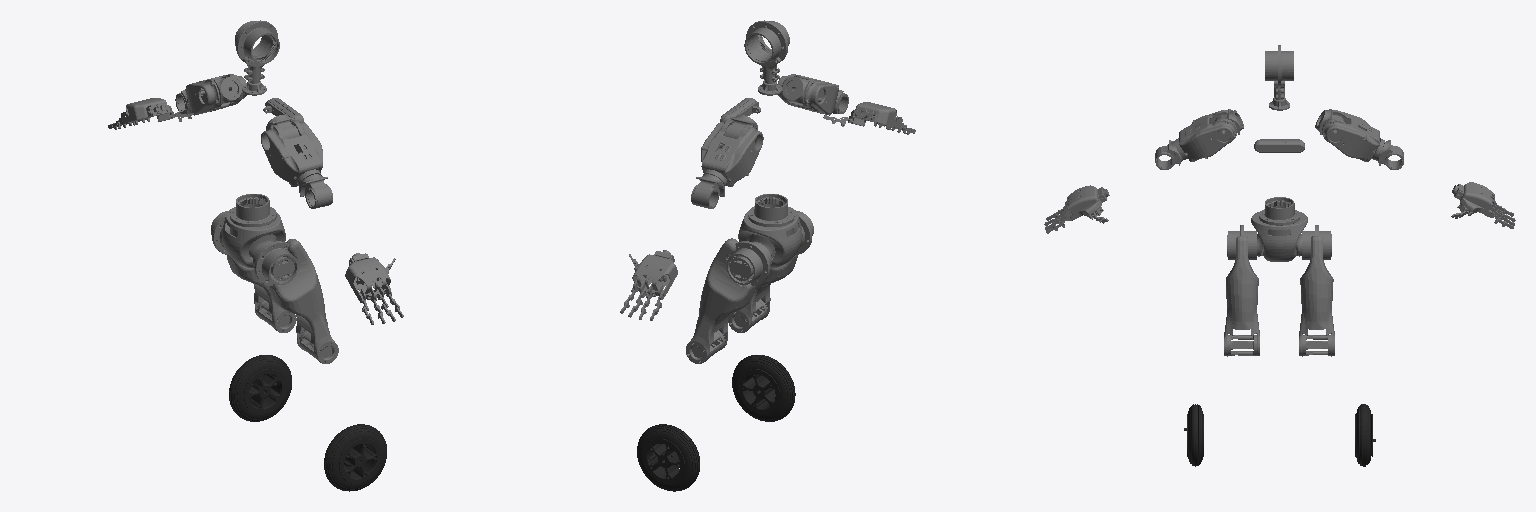
--- Facts derived from the render (not from the file) ---
3 views of the same robot in one strip: view 1: azimuth 30°, elevation 25°; view 2: azimuth 150°, elevation 25°; view 3: azimuth 270°, elevation 25° (orthographic).
Model mindbot with 53 links and 52 joints (46 revolute, 2 continuous, 4 fixed), rooted at base, posed every joint at zero.
Links seen in each view (by area): view 1: upper_legs, pelvis, right_wheel, left_wheel, right_upper_arm, neck, right_palm, left_upper_arm, left_palm, right_elbow, left_shoulder; view 2: upper_legs, pelvis, right_wheel, left_wheel, left_upper_arm, neck, left_palm, right_upper_arm, right_palm, left_elbow, right_shoulder; view 3: upper_legs, pelvis, left_upper_arm, right_upper_arm, neck, left_palm, right_palm, left_wheel, right_wheel, chest_camera.
Boxes of the visible links, x1,y1,x2,y2 form: upper_legs: (211, 211, 338, 363); pelvis: (222, 194, 294, 280); right_wheel: (324, 424, 386, 491); left_wheel: (229, 355, 291, 421); right_upper_arm: (261, 120, 322, 186); neck: (235, 20, 279, 95); right_palm: (345, 253, 391, 302); left_upper_arm: (185, 74, 246, 115); left_palm: (119, 98, 175, 123); right_elbow: (299, 174, 332, 208); left_shoulder: (214, 75, 242, 103); upper_legs: (686, 211, 813, 363); pelvis: (730, 194, 802, 280); right_wheel: (732, 355, 795, 421); left_wheel: (637, 424, 699, 491); left_upper_arm: (701, 120, 763, 186); neck: (744, 20, 789, 95); left_palm: (631, 250, 677, 299); right_upper_arm: (777, 74, 838, 115); right_palm: (847, 102, 903, 128); left_elbow: (691, 174, 724, 208); right_shoulder: (781, 75, 809, 103); upper_legs: (1224, 225, 1334, 356); pelvis: (1227, 197, 1331, 261); left_upper_arm: (1322, 110, 1384, 161); right_upper_arm: (1175, 110, 1236, 161); neck: (1265, 45, 1293, 110); left_palm: (1452, 182, 1497, 217); right_palm: (1065, 185, 1109, 220); left_wheel: (1355, 404, 1375, 466); right_wheel: (1184, 404, 1203, 466); chest_camera: (1254, 139, 1304, 152).
Size in the robot's own frame: 0.275 by 1.14 by 1.05 metres.
44 mesh visuals loaded from 29 distinct referenced files (24 binary STL); not drawn: 5 (reference not matched to a file when rendering).

The robot description file, URDF, robot "mindbot":
<?xml version="1.0"?>
<robot name="mindbot">

    <!--
    The links are named exactly like the bones in Blender.
    The joints are named exactly like the joints in the animation system.
    -->

    <link name="base">
        <visual>
            <geometry>
                <mesh
                    filename="package://mindbot/robot_description/meshes/base.stl" />
            </geometry>
            <material name="gray">
                <color rgba="0.5 0.5 0.5 1.0" />
            </material>
        </visual>
    </link>

    <!-- "base_link" is apparently the hardcoded name for NAV2 -->
    <link name="base_link" />
    <joint name="_base_link" type="fixed">
        <origin xyz="0 0 0.076" rpy="0 0 0" />
        <parent link="base" />
        <child link="base_link" />
    </joint>

    <link name="left_wheel">
        <visual>
            <geometry>
                <mesh
                    filename="package://mindbot/robot_description/meshes/left_wheel.stl" />
            </geometry>
            <material name="dark_gray">
                <color rgba="0.2 0.2 0.2 1.0" />
            </material>
        </visual>
    </link>
    <joint name="left_wheel" type="continuous">
        <origin xyz="0 0.182 0" rpy="0 0 0" />
        <parent link="base_link" />
        <child link="left_wheel" />
        <axis xyz="0 1 0" />
    </joint>

    <link name="right_wheel">
        <visual>
            <geometry>
                <mesh
                    filename="package://mindbot/robot_description/meshes/right_wheel.stl" />
            </geometry>
            <material name="dark_gray">
                <color rgba="0.2 0.2 0.2 1.0" />
            </material>
        </visual>
    </link>
    <joint name="right_wheel" type="continuous">
        <origin xyz="0 -0.182 0" rpy="0 0 0" />
        <parent link="base_link" />
        <child link="right_wheel" />
        <axis xyz="0 1 0" />
    </joint>

    <link name="upper_legs">
        <visual>
            <geometry>
                <mesh
                    filename="package://mindbot/robot_description/meshes/upper_legs.stl" />
            </geometry>
            <material name="gray">
                <color rgba="0.5 0.5 0.5 1.0" />
            </material>
        </visual>
    </link>
    <joint name="knees" type="revolute">
        <origin xyz="-0.0275 0 0.302" rpy="0 0 0" />
        <parent link="base" />
        <child link="upper_legs" />
        <axis xyz="0 1 0" />
        <limit lower="-1.5708" upper="0.3665" effort="0" velocity="0" />
    </joint>

    <link name="pelvis">
        <visual>
            <geometry>
                <mesh filename="package://mindbot/robot_description/meshes/pelvis.stl" />
            </geometry>
            <material name="gray">
                <color rgba="0.5 0.5 0.5 1.0" />
            </material>
        </visual>
    </link>
    <joint name="hips" type="revolute">
        <!-- absolute: <origin xyz="-0.13314 0 0.51908" rpy="0 0 0"/>-->
        <origin xyz="-0.10564 0 0.21708" rpy="0 0 0" />
        <parent link="upper_legs" />
        <child link="pelvis" />
        <axis xyz="0 1 0" />
        <limit lower="0.3665" upper="-1.5708" effort="0" velocity="0" />
    </joint>

    <link name="torso">
        <visual>
            <geometry>
                <mesh filename="package://mindbot/robot_description/meshes/torso.stl" />
            </geometry>
            <material name="gray">
                <color rgba="0.5 0.5 0.5 1.0" />
            </material>
        </visual>
    </link>
    <joint name="torso_rotate" type="revolute">
        <!-- absolute: <origin xyz="-0.13314 0 0.51908" rpy="0 0 0"/>-->
        <origin xyz="0 0 0" rpy="0 0 0" />
        <parent link="pelvis" />
        <child link="torso" />
        <axis xyz="0 0 1" />
        <limit lower="1.3963" upper="-1.3963" effort="0" velocity="0" />
    </joint>

    <link name="neck">
        <visual>
            <geometry>
                <mesh filename="package://mindbot/robot_description/meshes/neck.stl" />
            </geometry>
            <material name="gray">
                <color rgba="0.5 0.5 0.5 1.0" />
            </material>
        </visual>
    </link>
    <joint name="neck_turn" type="revolute">
        <!-- absolute: <origin xyz="-0.13218 0 0.9" rpy="0 0 0"/>-->
        <origin xyz="0.00096 0 0.38092" rpy="0 0 0" />
        <parent link="torso" />
        <child link="neck" />
        <axis xyz="0 0 1" />
        <limit lower="1.3963" upper="-1.3963" effort="0" velocity="0" />
    </joint>

    <link name="head">
        <visual>
            <geometry>
                <mesh filename="package://mindbot/robot_description/meshes/head.stl" />
            </geometry>
            <material name="light-gray">
                <color rgba="0.8 0.8 0.8 1.0" />
            </material>
        </visual>
    </link>
    <joint name="head_nod" type="revolute">
        <!-- absolute: <origin xyz="-0.1252 0 1" rpy="0 0 0"/>-->
        <origin xyz="0.00698 0 0.1" rpy="0 0 0" />
        <parent link="neck" />
        <child link="head" />
        <axis xyz="0 1 0" />
        <limit lower="0.4363" upper="-0.6982" effort="0" velocity="0" />
    </joint>

    <link name="_left_shoulder_mount" />
    <joint name="_left_shoulder_mount" type="fixed">
        <!-- absolute: <origin xyz="-0.1323 0.09165 0.8581" rpy="0 0 0"/>-->
        <origin xyz="0.00084 0.09165 0.33902" rpy="-0.5236 0 0" />
        <parent link="torso" />
        <child link="_left_shoulder_mount" />
    </joint>

    <link name="left_shoulder">
        <visual>
            <geometry>
                <mesh filename="package://mindbot/robot_description/meshes/left_shoulder.stl" />
            </geometry>
            <material name="gray">
                <color rgba="0.5 0.5 0.5 1.0" />
            </material>
        </visual>
    </link>
    <joint name="left_shoulder_phi" type="revolute">
        <origin xyz="0 0 0" rpy="0 0 0" />
        <parent link="_left_shoulder_mount" />
        <child link="left_shoulder" />
        <axis xyz="0 1 0" />
        <limit lower="1.0472" upper="-3.1416" effort="0" velocity="0" />
    </joint>

    <link name="_right_shoulder_mount" />
    <joint name="_right_shoulder_mount" type="fixed">
        <!-- absolute: <origin xyz="-0.1323 -0.09165 0.8581" rpy="0 0 0"/>-->
        <origin xyz="0.00084 -0.09165 0.33902" rpy="0.5236 0 0" />
        <parent link="torso" />
        <child link="_right_shoulder_mount" />
    </joint>

    <link name="right_shoulder">
        <visual>
            <geometry>
                <mesh
                    filename="package://mindbot/robot_description/meshes/right_shoulder.stl" />
            </geometry>
            <material name="gray">
                <color rgba="0.5 0.5 0.5 1.0" />
            </material>
        </visual>
    </link>
    <joint name="right_shoulder_phi" type="revolute">
        <origin xyz="0 0 0" rpy="0 0 0" />
        <parent link="_right_shoulder_mount" />
        <child link="right_shoulder" />
        <axis xyz="0 1 0" />
        <limit lower="1.0472" upper="-3.1416" effort="0" velocity="0" />
    </joint>

    <link name="left_upper_arm">
        <visual>
            <geometry>
                <mesh
                    filename="package://mindbot/robot_description/meshes/left_upper_arm.stl" />
            </geometry>
            <material name="gray">
                <color rgba="0.5 0.5 0.5 1.0" />
            </material>
        </visual>
    </link>
    <joint name="left_shoulder_theta" type="revolute">
        <!-- absolute: <origin xyz="-0.1323 0.141 0.8581" rpy="0 0 0"/>-->
        <origin xyz="0 0.04935 0" rpy="0 0 0" />
        <parent link="left_shoulder" />
        <child link="left_upper_arm" />
        <axis xyz="1 0 0" />
        <limit lower="-0.8727" upper="0.6981" effort="0" velocity="0" />
    </joint>

    <link name="right_upper_arm">
        <visual>
            <geometry>
                <mesh
                    filename="package://mindbot/robot_description/meshes/right_upper_arm.stl" />
            </geometry>
            <material name="gray">
                <color rgba="0.5 0.5 0.5 1.0" />
            </material>
        </visual>
    </link>
    <joint name="right_shoulder_theta" type="revolute">
        <!-- absolute: <origin xyz="-0.1323 -0.141 0.8581" rpy="0 0 0"/>-->
        <origin xyz="0 -0.04935 0" rpy="0 0 0" />
        <parent link="right_shoulder" />
        <child link="right_upper_arm" />
        <axis xyz="1 0 0" />
        <limit lower="0.8727" upper="-0.6981" effort="0" velocity="0" />
    </joint>

    <link name="left_elbow">
        <visual>
            <geometry>
                <mesh
                    filename="package://mindbot/robot_description/meshes/left_elbow.stl" />
            </geometry>
            <material name="gray">
                <color rgba="0.5 0.5 0.5 1.0" />
            </material>
        </visual>
    </link>
    <joint name="left_elbow_phi" type="revolute">
        <!-- absolute: <origin xyz="-0.1323 0.2647 0.8581" rpy="0 0 0"/>-->
        <origin xyz="0 0.1237 0" rpy="0 0 0" />
        <parent link="left_upper_arm" />
        <child link="left_elbow" />
        <axis xyz="0 1 0" />
        <limit lower="0" upper="-1.0472" effort="0" velocity="0" />
    </joint>

    <link name="right_elbow">
        <visual>
            <geometry>
                <mesh
                    filename="package://mindbot/robot_description/meshes/right_elbow.stl" />
            </geometry>
            <material name="gray">
                <color rgba="0.5 0.5 0.5 1.0" />
            </material>
        </visual>
    </link>
    <joint name="right_elbow_phi" type="revolute">
        <!-- absolute: <origin xyz="-0.1323 -0.2647 0.8581" rpy="0 0 0"/>-->
        <origin xyz="0 -0.1237 0" rpy="0 0 0" />
        <parent link="right_upper_arm" />
        <child link="right_elbow" />
        <axis xyz="0 1 0" />
        <limit lower="0" upper="-1.0472" effort="0" velocity="0" />
    </joint>

    <link name="left_lower_arm">
        <visual>
            <geometry>
                <mesh
                    filename="package://mindbot/robot_description/meshes/left_lower_arm.stl" />
            </geometry>
            <material name="gray">
                <color rgba="0.5 0.5 0.5 1.0" />
            </material>
        </visual>
    </link>
    <joint name="left_elbow_theta" type="revolute">
        <!-- absolute: <origin xyz="-0.1323 0.3059 0.8581" rpy="0 0 0"/>-->
        <origin xyz="0 0.0412 0" rpy="0 0 0" />
        <parent link="left_elbow" />
        <child link="left_lower_arm" />
        <axis xyz="1 0 0" />
        <limit lower="-1.9199" upper="0" effort="0" velocity="0" />
    </joint>

    <link name="right_lower_arm">
        <visual>
            <geometry>
                <mesh
                    filename="package://mindbot/robot_description/meshes/right_lower_arm.stl" />
            </geometry>
            <material name="gray">
                <color rgba="0.5 0.5 0.5 1.0" />
            </material>
        </visual>
    </link>
    <joint name="right_elbow_theta" type="revolute">
        <!-- absolute: <origin xyz="-0.1323 -0.3059 0.8581" rpy="0 0 0"/>-->
        <origin xyz="0 -0.0412 0" rpy="0 0 0" />
        <parent link="right_elbow" />
        <child link="right_lower_arm" />
        <axis xyz="1 0 0" />
        <limit lower="1.9199" upper="0" effort="0" velocity="0" />
    </joint>

    <link name="left_palm">
        <visual>
            <geometry>
                <mesh filename="package://mindbot/robot_description/meshes/left_palm.stl" />
            </geometry>
            <material name="gray">
                <color rgba="0.5 0.5 0.5 1.0" />
            </material>
        </visual>
    </link>
    <joint name="left_wrist" type="revolute">
        <!-- absolute: <origin xyz="-0.1217 0.4671 0.8632" rpy="0 0 0"/>-->
        <origin xyz="0.0106 0.1612 0.0051" rpy="0 0 0" />
        <parent link="left_lower_arm" />
        <child link="left_palm" />
        <axis xyz="0 1 0" />
        <limit lower="-3.14" upper="3.14" effort="0" velocity="0" />
    </joint>

    <link name="right_palm">
        <visual>
            <geometry>
                <mesh filename="package://mindbot/robot_description/meshes/right_palm.stl" />
            </geometry>
            <material name="gray">
                <color rgba="0.5 0.5 0.5 1.0" />
            </material>
        </visual>
    </link>
    <joint name="right_wrist" type="revolute">
        <!-- absolute: <origin xyz="-0.1211 -0.4671 0.8531" rpy="0 0 0"/>-->
        <origin xyz="0.0112 -0.1612 -0.005" rpy="0 0 0" />
        <parent link="right_lower_arm" />
        <child link="right_palm" />
        <axis xyz="0 1 0" />
        <limit lower="-3.14" upper="3.14" effort="0" velocity="0" />
    </joint>

    <link name="left_thumb_base">
        <visual>
            <geometry>
                <mesh filename="package://mindbot/robot_description/meshes/left_thumb_base.stl" />
            </geometry>
            <material name="gray">
                <color rgba="0.5 0.5 0.5 1.0" />
            </material>
        </visual>
    </link>
    <joint name="left_thumb" type="revolute">
        <!-- absolute: <origin xyz="-0.0771 0.5155 0.8442" rpy="0 0 0"/>-->
        <origin xyz="0.0446 0.0484 -0.019" rpy="0 0 -2.268928" /> <!-- thumb angle -->
        <parent link="left_palm" />
        <child link="left_thumb_base" />
        <axis xyz="1 0 0" />
        <limit lower="0" upper="-1.1" effort="0" velocity="0" />
    </joint>

    <link name="right_thumb_base">
        <visual>
            <geometry>
                <mesh filename="package://mindbot/robot_description/meshes/right_thumb_base.stl" />
            </geometry>
            <material name="gray">
                <color rgba="0.5 0.5 0.5 1.0" />
            </material>
        </visual>
    </link>
    <joint name="right_thumb" type="revolute">
        <!-- absolute: <origin xyz="-0.0765 -0.5196 0.8341" rpy="0 0 0"/>-->
        <origin xyz="0.0446 -0.0525 -0.019" rpy="0 0 2.268928" /> <!-- thumb angle -->
        <parent link="right_palm" />
        <child link="right_thumb_base" />
        <axis xyz="1 0 0" />
        <limit lower="0" upper="1.1" effort="0" velocity="0" />
    </joint>

    <link name="left_thumb_mid">
        <visual>
            <geometry>
                <mesh filename="package://mindbot/robot_description/meshes/left_finger_mid.stl" />
            </geometry>
            <material name="gray">
                <color rgba="0.5 0.5 0.5 1.0" />
            </material>
        </visual>
    </link>
    <joint name="_left_thumb_mid" type="revolute">
        <origin xyz="0 0.0185 -0.007" rpy="0 0 0" />
        <parent link="left_thumb_base" />
        <child link="left_thumb_mid" />
        <axis xyz="1 0 0" />
        <limit lower="0" upper="0" effort="0" velocity="0" />
        <mimic joint="left_thumb" multiplier="1" offset="0" />
    </joint>

    <link name="right_thumb_mid">
        <visual>
            <geometry>
                <mesh filename="package://mindbot/robot_description/meshes/right_finger_mid.stl" />
            </geometry>
            <material name="gray">
                <color rgba="0.5 0.5 0.5 1.0" />
            </material>
        </visual>
    </link>
    <joint name="_right_thumb_mid" type="revolute">
        <origin xyz="0 -0.0185 -0.0075" rpy="0 0 0" />
        <parent link="right_thumb_base" />
        <child link="right_thumb_mid" />
        <axis xyz="1 0 0" />
        <limit lower="0" upper="0" effort="0" velocity="0" />
        <mimic joint="right_thumb" multiplier="1" offset="0" />
    </joint>

    <link name="left_thumb_tip">
        <visual>
            <geometry>
                <mesh filename="package://mindbot/robot_description/meshes/left_finger_tip.stl" />
            </geometry>
            <material name="gray">
                <color rgba="0.5 0.5 0.5 1.0" />
            </material>
        </visual>
    </link>
    <joint name="_left_thumb_tip" type="revolute">
        <origin xyz="-0.004 0.0201 0" rpy="0 0 0" />
        <parent link="left_thumb_mid" />
        <child link="left_thumb_tip" />
        <axis xyz="1 0 0" />
        <limit lower="0" upper="0" effort="0" velocity="0" />
        <mimic joint="left_thumb" multiplier="1" offset="0" />
    </joint>

    <link name="right_thumb_tip">
        <visual>
            <geometry>
                <mesh filename="package://mindbot/robot_description/meshes/right_finger_tip.stl" />
            </geometry>
            <material name="gray">
                <color rgba="0.5 0.5 0.5 1.0" />
            </material>
        </visual>
    </link>
    <joint name="_right_thumb_tip" type="revolute">
        <origin xyz="-0.004 -0.02 0.0" rpy="0 0 0" />
        <parent link="right_thumb_mid" />
        <child link="right_thumb_tip" />
        <axis xyz="1 0 0" />
        <limit lower="0" upper="0" effort="0" velocity="0" />
        <mimic joint="right_thumb" multiplier="1" offset="0" />
    </joint>

    <link name="left_index_base">
        <visual>
            <geometry>
                <mesh filename="package://mindbot/robot_description/meshes/left_finger_base_neg.stl" />
            </geometry>
            <material name="gray">
                <color rgba="0.5 0.5 0.5 1.0" />
            </material>
        </visual>
    </link>
    <joint name="left_index" type="revolute">
        <!-- absolute: <origin xyz="-0.0940 0.5732 0.8592" rpy="0 0 0"/>-->
        <origin xyz="0.0277 0.1061 -0.004" rpy="0 0 -0.1047198" />
        <parent link="left_palm" />
        <child link="left_index_base" />
        <axis xyz="1 0 0" />
        <limit lower="0" upper="-1.1" effort="0" velocity="0" />
    </joint>

    <link name="right_index_base">
        <visual>
            <geometry>
                <mesh filename="package://mindbot/robot_description/meshes/right_finger_base_neg.stl" />
            </geometry>
            <material name="gray">
                <color rgba="0.5 0.5 0.5 1.0" />
            </material>
        </visual>
    </link>
    <joint name="right_index" type="revolute">
        <!-- absolute: <origin xyz="-0.0934 -0.5772 0.8491" rpy="0 0 0"/>-->
        <origin xyz="0.0277 -0.1101 -0.004" rpy="0 0 0.1047198" />
        <parent link="right_palm" />
        <child link="right_index_base" />
        <axis xyz="1 0 0" />
        <limit lower="0" upper="1.1" effort="0" velocity="0" />
    </joint>

    <link name="left_index_mid">
        <visual>
            <geometry>
                <mesh filename="package://mindbot/robot_description/meshes/left_finger_mid.stl" />
            </geometry>
            <material name="gray">
                <color rgba="0.5 0.5 0.5 1.0" />
            </material>
        </visual>
    </link>
    <joint name="_left_index_mid" type="revolute">
        <origin xyz="0 0.0198 -0.0028" rpy="0 0 0" />
        <parent link="left_index_base" />
        <child link="left_index_mid" />
        <axis xyz="1 0 0" />
        <limit lower="0" upper="0" effort="0" velocity="0" />
        <mimic joint="left_index" multiplier="1" offset="0" />
    </joint>

    <link name="right_index_mid">
        <visual>
            <geometry>
                <mesh filename="package://mindbot/robot_description/meshes/right_finger_mid.stl" />
            </geometry>
            <material name="gray">
                <color rgba="0.5 0.5 0.5 1.0" />
            </material>
        </visual>
    </link>
    <joint name="_right_index_mid" type="revolute">
        <origin xyz="0 -0.0198 -0.0028" rpy="0 0 0" />
        <parent link="right_index_base" />
        <child link="right_index_mid" />
        <axis xyz="1 0 0" />
        <limit lower="0" upper="0" effort="0" velocity="0" />
        <mimic joint="right_index" multiplier="1" offset="0" />
    </joint>

    <link name="left_index_tip">
        <visual>
            <geometry>
                <mesh filename="package://mindbot/robot_description/meshes/left_finger_tip.stl" />
            </geometry>
            <material name="gray">
                <color rgba="0.5 0.5 0.5 1.0" />
            </material>
        </visual>
    </link>
    <joint name="_left_index_tip" type="revolute">
        <origin xyz="-0.004 0.02 0" rpy="0 0 0" />
        <parent link="left_index_mid" />
        <child link="left_index_tip" />
        <axis xyz="1 0 0" />
        <limit lower="0" upper="0" effort="0" velocity="0" />
        <mimic joint="left_index" multiplier="1" offset="0" />
    </joint>

    <link name="right_index_tip">
        <visual>
            <geometry>
                <mesh filename="package://mindbot/robot_description/meshes/right_finger_tip.stl" />
            </geometry>
            <material name="gray">
                <color rgba="0.5 0.5 0.5 1.0" />
            </material>
        </visual>
    </link>
    <joint name="_right_index_tip" type="revolute">
        <origin xyz="-0.004 -0.02 0" rpy="0 0 0" />
        <parent link="right_index_mid" />
        <child link="right_index_tip" />
        <axis xyz="1 0 0" />
        <limit lower="0" upper="0" effort="0" velocity="0" />
        <mimic joint="right_index" multiplier="1" offset="0" />
    </joint>

    <link name="left_middle_base">
        <visual>
            <geometry>
                <mesh filename="package://mindbot/robot_description/meshes/left_finger_base_pos.stl" />
            </geometry>
            <material name="gray">
                <color rgba="0.5 0.5 0.5 1.0" />
            </material>
        </visual>
    </link>
    <joint name="left_middle" type="revolute">
        <!-- absolute: <origin xyz="-0.1197 0.5781 0.8592" rpy="0 0 0"/>-->
        <origin xyz="0.002 0.111 -0.004" rpy="0 0 -0.0349066" />
        <parent link="left_palm" />
        <child link="left_middle_base" />
        <axis xyz="1 0 0" />
        <limit lower="0" upper="-1.1" effort="0" velocity="0" />
    </joint>

    <link name="right_middle_base">
        <visual>
            <geometry>
                <mesh filename="package://mindbot/robot_description/meshes/right_finger_base_pos.stl" />
            </geometry>
            <material name="gray">
                <color rgba="0.5 0.5 0.5 1.0" />
            </material>
        </visual>
    </link>
    <joint name="right_middle" type="revolute">
        <!-- absolute: <origin xyz="-0.1191 -0.5821 0.8491" rpy="0 0 0"/>-->
        <origin xyz="0.002 -0.115 -0.004" rpy="0 0 0.0349066" />
        <parent link="right_palm" />
        <child link="right_middle_base" />
        <axis xyz="1 0 0" />
        <limit lower="0" upper="1.1" effort="0" velocity="0" />
    </joint>

    <link name="left_middle_mid">
        <visual>
            <geometry>
                <mesh filename="package://mindbot/robot_description/meshes/left_finger_mid.stl" />
            </geometry>
            <material name="gray">
                <color rgba="0.5 0.5 0.5 1.0" />
            </material>
        </visual>
    </link>
    <joint name="_left_middle_mid" type="revolute">
        <origin xyz="0 0.0198 -0.0028" rpy="0 0 0" />
        <parent link="left_middle_base" />
        <child link="left_middle_mid" />
        <axis xyz="1 0 0" />
        <limit lower="0" upper="0" effort="0" velocity="0" />
        <mimic joint="left_middle" multiplier="1" offset="0" />
    </joint>

    <link name="right_middle_mid">
        <visual>
            <geometry>
                <mesh filename="package://mindbot/robot_description/meshes/right_finger_mid.stl" />
            </geometry>
            <material name="gray">
                <color rgba="0.5 0.5 0.5 1.0" />
            </material>
        </visual>
    </link>
    <joint name="_right_middle_mid" type="revolute">
        <origin xyz="0 -0.0198 -0.0028" rpy="0 0 0" />
        <parent link="right_middle_base" />
        <child link="right_middle_mid" />
        <axis xyz="1 0 0" />
        <limit lower="0" upper="0" effort="0" velocity="0" />
        <mimic joint="right_middle" multiplier="1" offset="0" />
    </joint>

    <link name="left_middle_tip">
        <visual>
            <geometry>
                <mesh filename="package://mindbot/robot_description/meshes/left_finger_tip.stl" />
            </geometry>
            <material name="gray">
                <color rgba="0.5 0.5 0.5 1.0" />
            </material>
        </visual>
    </link>
    <joint name="_left_middle_tip" type="revolute">
        <origin xyz="0.004 0.02 0" rpy="0 0 0" />
        <parent link="left_middle_mid" />
        <child link="left_middle_tip" />
        <axis xyz="1 0 0" />
        <limit lower="0" upper="0" effort="0" velocity="0" />
        <mimic joint="left_middle" multiplier="1" offset="0" />
    </joint>

    <link name="right_middle_tip">
        <visual>
            <geometry>
                <mesh filename="package://mindbot/robot_description/meshes/right_finger_tip.stl" />
            </geometry>
            <material name="gray">
                <color rgba="0.5 0.5 0.5 1.0" />
            </material>
        </visual>
    </link>
    <joint name="_right_middle_tip" type="revolute">
        <origin xyz="0.004 -0.02 0" rpy="0 0 0" />
        <parent link="right_middle_mid" />
        <child link="right_middle_tip" />
        <axis xyz="1 0 0" />
        <limit lower="0" upper="0" effort="0" velocity="0" />
        <mimic joint="right_middle" multiplier="1" offset="0" />
    </joint>

    <link name="left_ring_base">
        <visual>
            <geometry>
                <mesh filename="package://mindbot/robot_description/meshes/left_finger_base_neg.stl" />
            </geometry>
            <material name="gray">
                <color rgba="0.5 0.5 0.5 1.0" />
            </material>
        </visual>
    </link>
    <joint name="left_ring" type="revolute">
        <!-- absolute: <origin xyz="-0.1326 0.5781 0.8592" rpy="0 0 0"/>-->
        <origin xyz="-0.0109 0.111 -0.004" rpy="0 0 0.0349066" />
        <parent link="left_palm" />
        <child link="left_ring_base" />
        <axis xyz="1 0 0" />
        <limit lower="0" upper="-1.1" effort="0" velocity="0" />
    </joint>

    <link name="right_ring_base">
        <visual>
            <geometry>
                <mesh filename="package://mindbot/robot_description/meshes/right_finger_base_neg.stl" />
            </geometry>
            <material name="gray">
                <color rgba="0.5 0.5 0.5 1.0" />
            </material>
        </visual>
    </link>
    <joint name="right_ring" type="revolute">
        <!-- absolute: <origin xyz="-0.1320 -0.5821 0.8491" rpy="0 0 0"/>-->
        <origin xyz="-0.0109 -0.115 -0.004" rpy="0 0 -0.0349066" />
        <parent link="right_palm" />
        <child link="right_ring_base" />
        <axis xyz="1 0 0" />
        <limit lower="0" upper="1.1" effort="0" velocity="0" />
    </joint>

    <link name="left_ring_mid">
        <visual>
            <geometry>
                <mesh filename="package://mindbot/robot_description/meshes/left_finger_mid.stl" />
            </geometry>
            <material name="gray">
                <color rgba="0.5 0.5 0.5 1.0" />
            </material>
        </visual>
    </link>
    <joint name="_left_ring_mid" type="revolute">
        <origin xyz="0 0.0199 -0.0028" rpy="0 0 0" />
        <parent link="left_ring_base" />
        <child link="left_ring_mid" />
        <axis xyz="1 0 0" />
        <limit lower="0" upper="0" effort="0" velocity="0" />
        <mimic joint="left_ring" multiplier="1" offset="0" />
    </joint>

    <link name="right_ring_mid">
        <visual>
            <geometry>
                <mesh filename="package://mindbot/robot_description/meshes/right_finger_mid.stl" />
            </geometry>
            <material name="gray">
                <color rgba="0.5 0.5 0.5 1.0" />
            </material>
        </visual>
    </link>
    <joint name="_right_ring_mid" type="revolute">
        <origin xyz="0 -0.0199 -0.0028" rpy="0 0 0" />
        <parent link="right_ring_base" />
        <child link="right_ring_mid" />
        <axis xyz="1 0 0" />
        <limit lower="0" upper="0" effort="0" velocity="0" />
        <mimic joint="right_ring" multiplier="1" offset="0" />
    </joint>

    <link name="left_ring_tip">
        <visual>
            <geometry>
                <mesh filename="package://mindbot/robot_description/meshes/left_finger_tip.stl" />
            </geometry>
            <material name="gray">
                <color rgba="0.5 0.5 0.5 1.0" />
            </material>
        </visual>
    </link>
    <joint name="_left_ring_tip" type="revolute">
        <origin xyz="-0.004 0.02 0" rpy="0 0 0" />
        <parent link="left_ring_mid" />
        <child link="left_ring_tip" />
        <axis xyz="1 0 0" />
        <limit lower="0" upper="0" effort="0" velocity="0" />
        <mimic joint="left_ring" multiplier="1" offset="0" />
    </joint>

    <link name="right_ring_tip">
        <visual>
            <geometry>
                <mesh filename="package://mindbot/robot_description/meshes/right_finger_tip.stl" />
            </geometry>
            <material name="gray">
                <color rgba="0.5 0.5 0.5 1.0" />
            </material>
        </visual>
    </link>
    <joint name="_right_ring_tip" type="revolute">
        <origin xyz="-0.004 -0.02 0" rpy="0 0 0" />
        <parent link="right_ring_mid" />
        <child link="right_ring_tip" />
        <axis xyz="1 0 0" />
        <limit lower="0" upper="0" effort="0" velocity="0" />
        <mimic joint="right_ring" multiplier="1" offset="0" />
    </joint>

    <link name="left_pinky_base">
        <visual>
            <geometry>
                <mesh filename="package://mindbot/robot_description/meshes/left_finger_base_pos.stl" />
            </geometry>
            <material name="gray">
                <color rgba="0.5 0.5 0.5 1.0" />
            </material>
        </visual>
    </link>
    <joint name="left_pinky" type="revolute">
        <!-- absolute: <origin xyz="-0.1623 0.5732 0.8592" rpy="0 0 0"/>-->
        <origin xyz="-0.0406 0.1061 -0.004" rpy="0 0 0.1047198" />
        <parent link="left_palm" />
        <child link="left_pinky_base" />
        <axis xyz="1 0 0" />
        <limit lower="0" upper="-1.1" effort="0" velocity="0" />
    </joint>

    <link name="right_pinky_base">
        <visual>
            <geometry>
                <mesh filename="package://mindbot/robot_description/meshes/right_finger_base_pos.stl" />
            </geometry>
            <material name="gray">
                <color rgba="0.5 0.5 0.5 1.0" />
            </material>
        </visual>
    </link>
    <joint name="right_pinky" type="revolute">
        <!-- absolute: <origin xyz="-0.1617 -0.5772 0.8491" rpy="0 0 0"/>-->
        <origin xyz="-0.0406 -0.1101 -0.004" rpy="0 0 -0.1047198" />
        <parent link="right_palm" />
        <child link="right_pinky_base" />
        <axis xyz="1 0 0" />
        <limit lower="0" upper="1.1" effort="0" velocity="0" />
    </joint>

    <link name="left_pinky_mid">
        <visual>
            <geometry>
                <mesh filename="package://mindbot/robot_description/meshes/left_finger_mid.stl" />
            </geometry>
            <material name="gray">
                <color rgba="0.5 0.5 0.5 1.0" />
            </material>
        </visual>
    </link>
    <joint name="_left_pinky_mid" type="revolute">
        <origin xyz="0 0.0198 -0.0028" rpy="0 0 0" />
        <parent link="left_pinky_base" />
        <child link="left_pinky_mid" />
        <axis xyz="1 0 0" />
        <limit lower="0" upper="0" effort="0" velocity="0" />
        <mimic joint="left_pinky" multiplier="1" offset="0" />
    </joint>

    <link name="right_pinky_mid">
        <visual>
            <geometry>
                <mesh filename="package://mindbot/robot_description/meshes/right_finger_mid.stl" />
            </geometry>
            <material name="gray">
                <color rgba="0.5 0.5 0.5 1.0" />
            </material>
        </visual>
    </link>
    <joint name="_right_pinky_mid" type="revolute">
        <origin xyz="0 -0.0198 -0.0028" rpy="0 0 0" />
        <parent link="right_pinky_base" />
        <child link="right_pinky_mid" />
        <axis xyz="1 0 0" />
        <limit lower="0" upper="0" effort="0" velocity="0" />
        <mimic joint="right_pinky" multiplier="1" offset="0" />
    </joint>

    <link name="left_pinky_tip">
        <visual>
            <geometry>
                <mesh filename="package://mindbot/robot_description/meshes/left_finger_tip.stl" />
            </geometry>
            <material name="gray">
                <color rgba="0.5 0.5 0.5 1.0" />
            </material>
        </visual>
    </link>
    <joint name="_left_pinky_tip" type="revolute">
        <origin xyz="0.004 0.02 0" rpy="0 0 0" />
        <parent link="left_pinky_mid" />
        <child link="left_pinky_tip" />
        <axis xyz="1 0 0" />
        <limit lower="0" upper="0" effort="0" velocity="0" />
        <mimic joint="left_pinky" multiplier="1" offset="0" />
    </joint>

    <link name="right_pinky_tip">
        <visual>
            <geometry>
                <mesh filename="package://mindbot/robot_description/meshes/right_finger_tip.stl" />
            </geometry>
            <material name="gray">
                <color rgba="0.5 0.5 0.5 1.0" />
            </material>
        </visual>
    </link>
    <joint name="_right_pinky_tip" type="revolute">
        <origin xyz="0.004 -0.02 0" rpy="0 0 0" />
        <parent link="right_pinky_mid" />
        <child link="right_pinky_tip" />
        <axis xyz="1 0 0" />
        <limit lower="0" upper="0" effort="0" velocity="0" />
        <mimic joint="right_pinky" multiplier="1" offset="0" />
    </joint>

    <link name="chest_camera">
        <visual>
            <geometry>
                <mesh
                    filename="package://mindbot/robot_description/meshes/camera.stl" />
            </geometry>
            <material name="gray">
                <color rgba="0.5 0.5 0.5 1.0" />
            </material>
        </visual>
    </link>
    <joint
        name="chest_camera"
        type="revolute">
        <origin
            xyz="0.048749 0 0.3"
            rpy="0 0 0" />
        <parent link="torso" />
        <child link="chest_camera" />
        <axis xyz="0 1 0" />
        <limit
            lower="-0.4"
            upper="0.4"
            effort="0"
            velocity="0" />
    </joint>

    <link name="chest_camera_sensor"/>
    <joint name="camera_sensor_joint" type="fixed">
        <origin xyz="0.03 0 0" rpy="0 0 0" />
        <parent link="chest_camera" />
        <child link="chest_camera_sensor" />
    </joint>

</robot>
